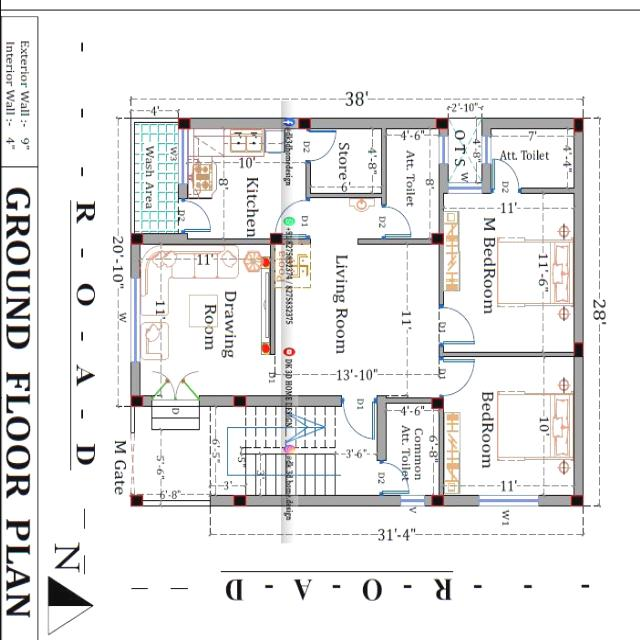column: (426, 490, 446, 512), (426, 228, 446, 249), (428, 393, 446, 414), (566, 491, 586, 509), (570, 337, 585, 361), (432, 113, 450, 133), (229, 490, 247, 510), (569, 114, 585, 136), (266, 229, 284, 248), (230, 392, 248, 410), (127, 491, 145, 509), (126, 230, 144, 248), (294, 114, 312, 132), (126, 392, 144, 409), (175, 114, 192, 132)
